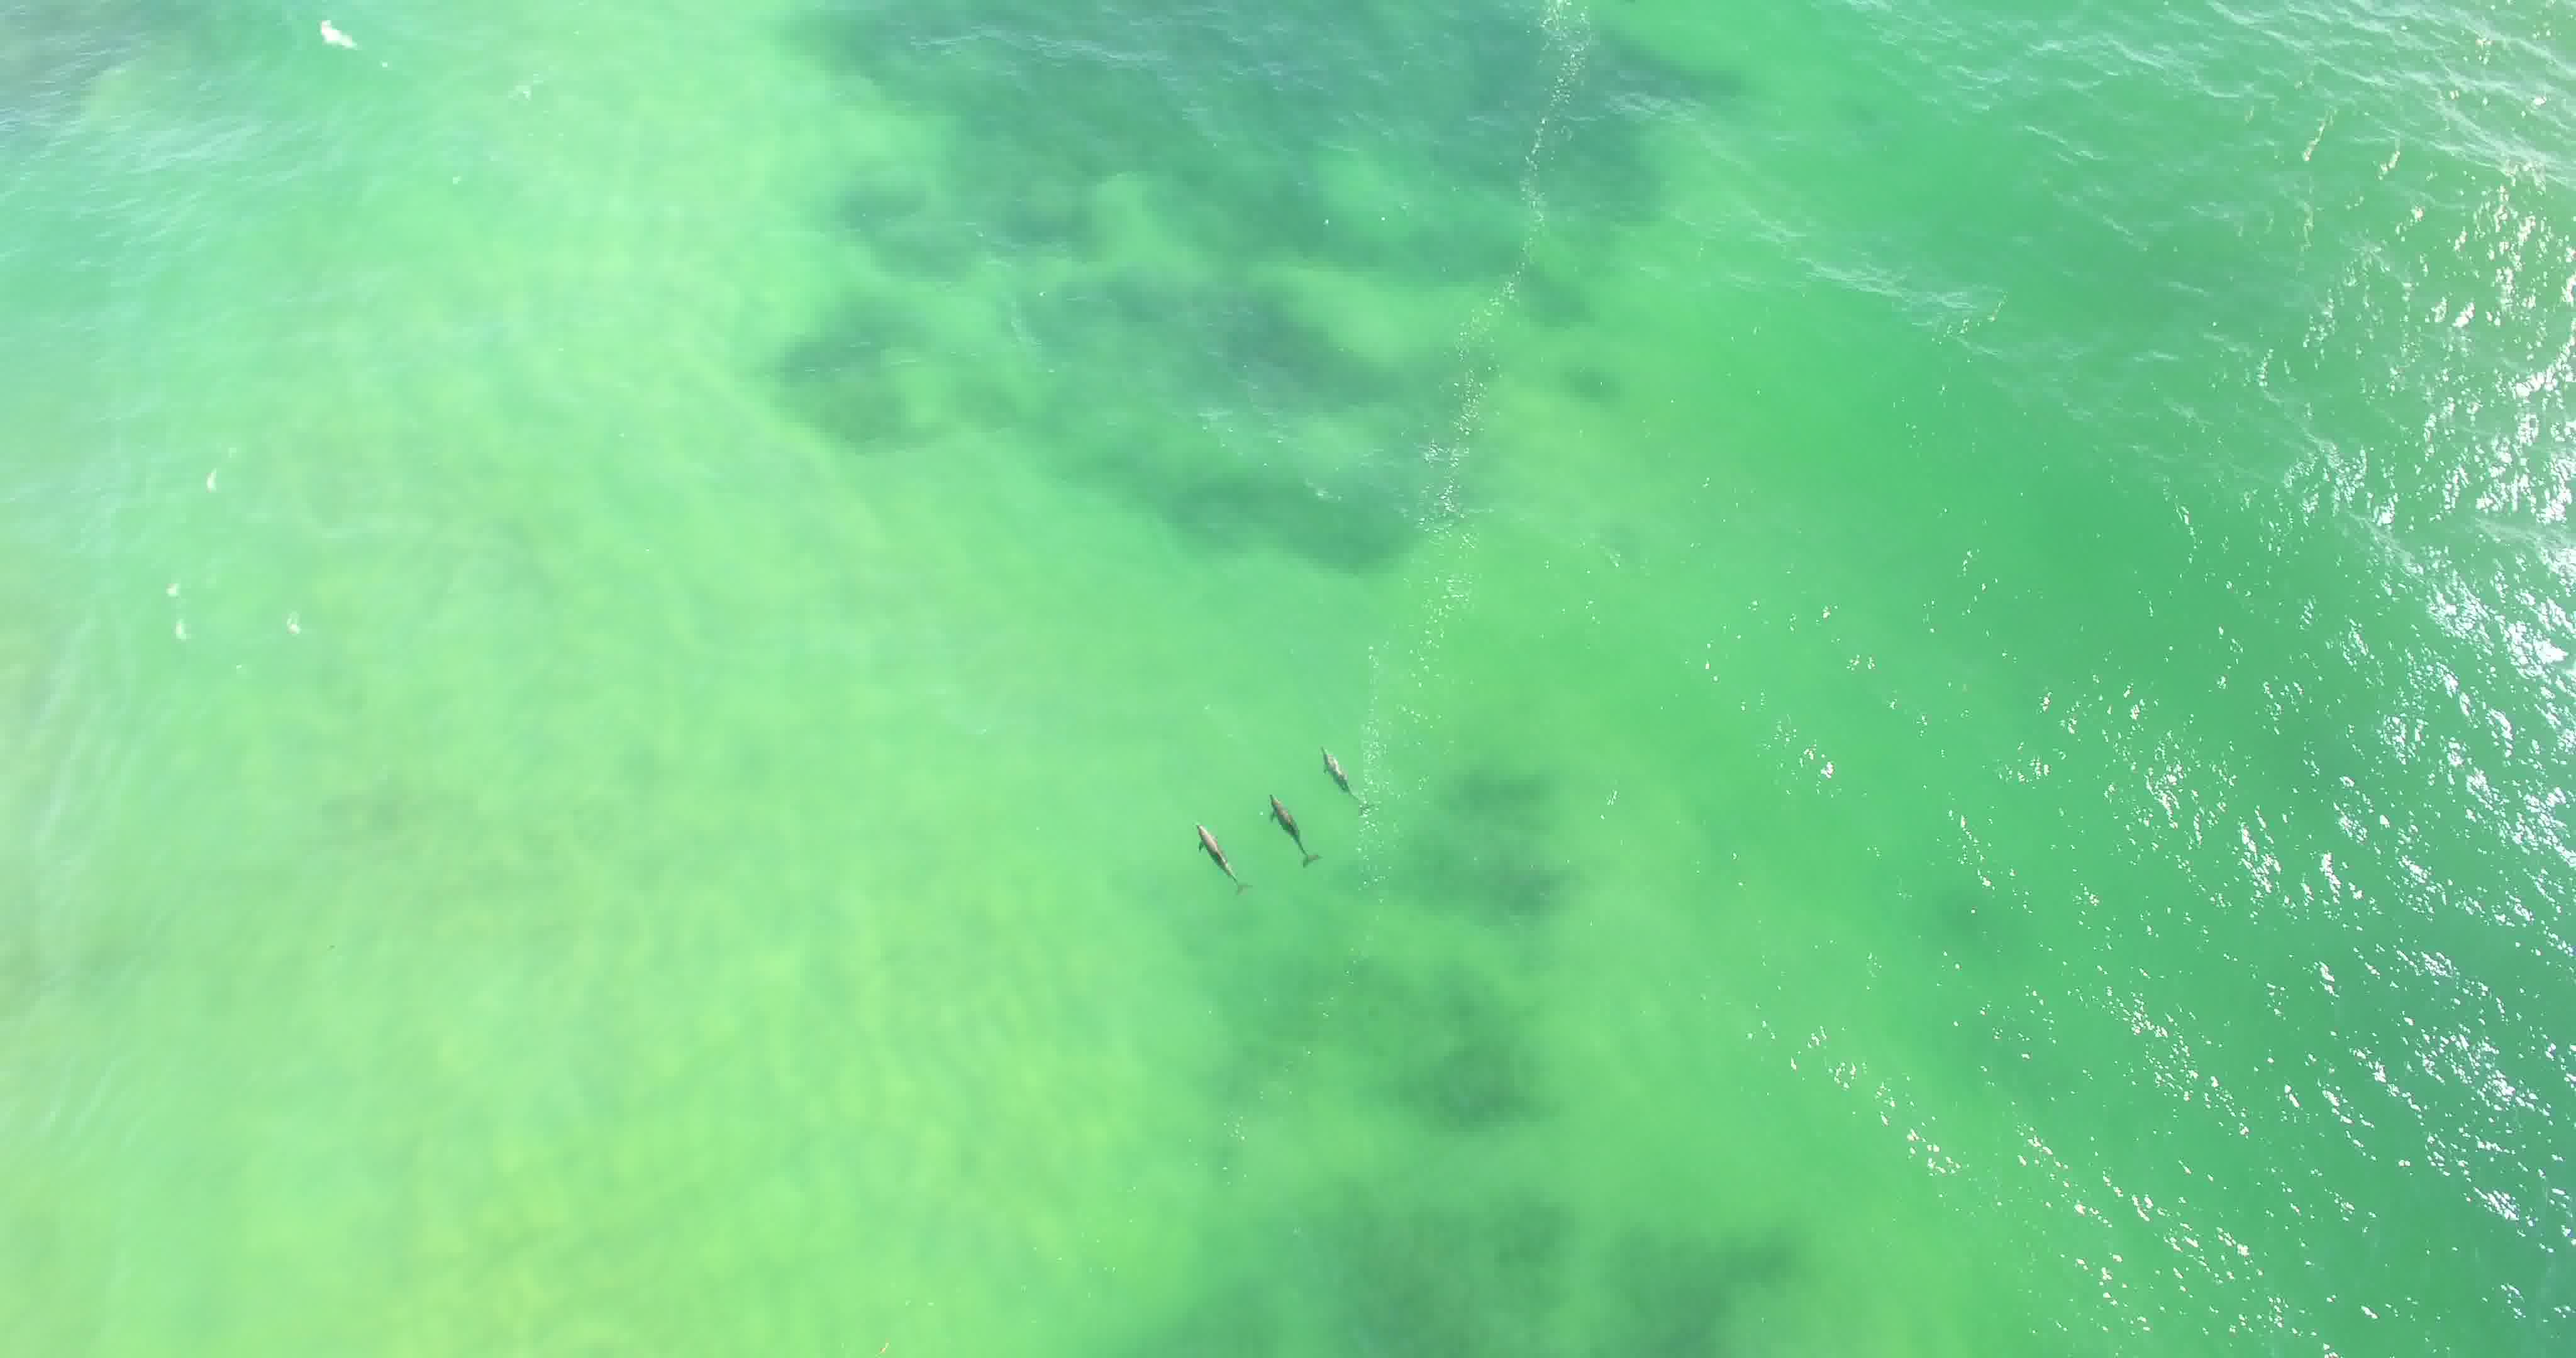dolphin: (1172, 803, 1257, 901), (1247, 777, 1320, 876), (1303, 736, 1380, 821)
